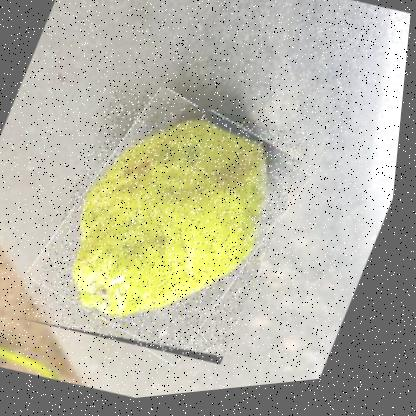guava: (22, 73, 323, 387)
